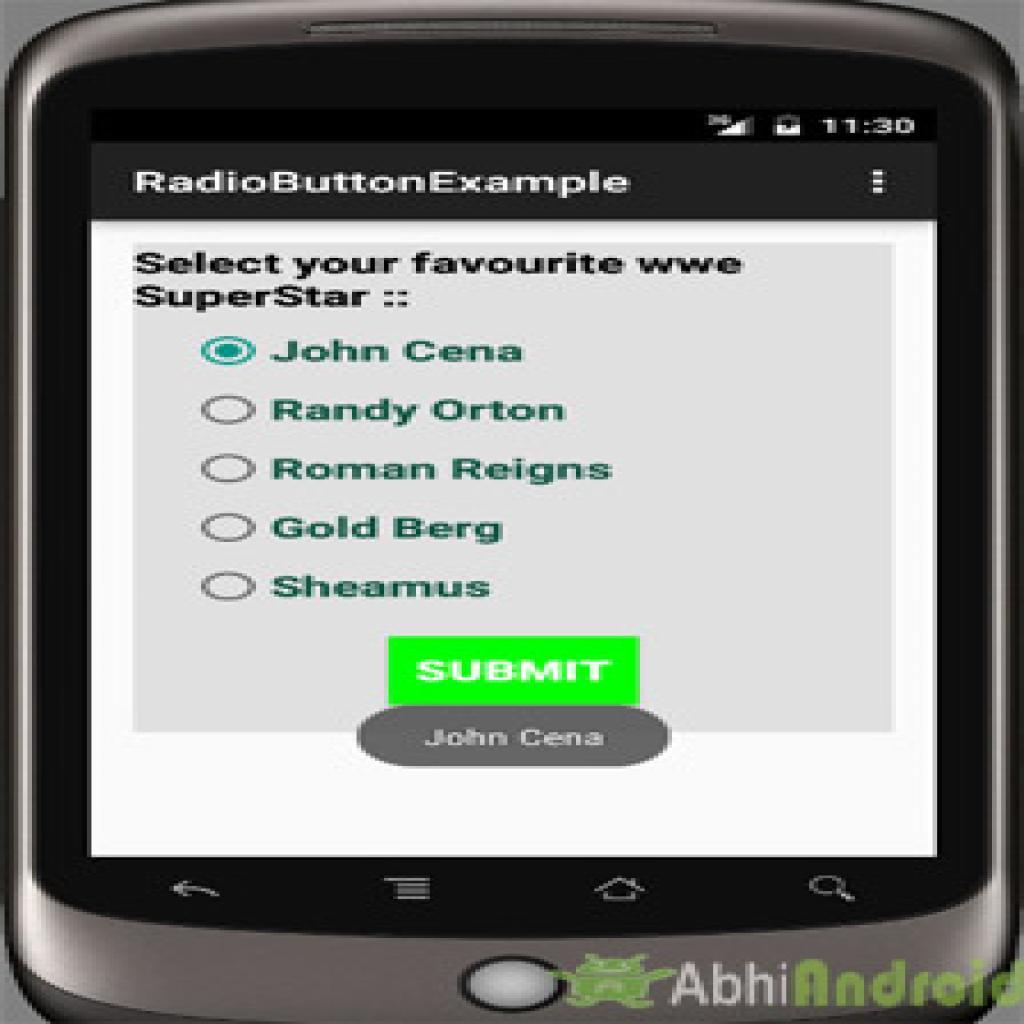button: (385, 634, 643, 709)
radio: (198, 335, 260, 369), (200, 395, 262, 427), (200, 511, 259, 544), (201, 453, 261, 484), (204, 571, 260, 603)
